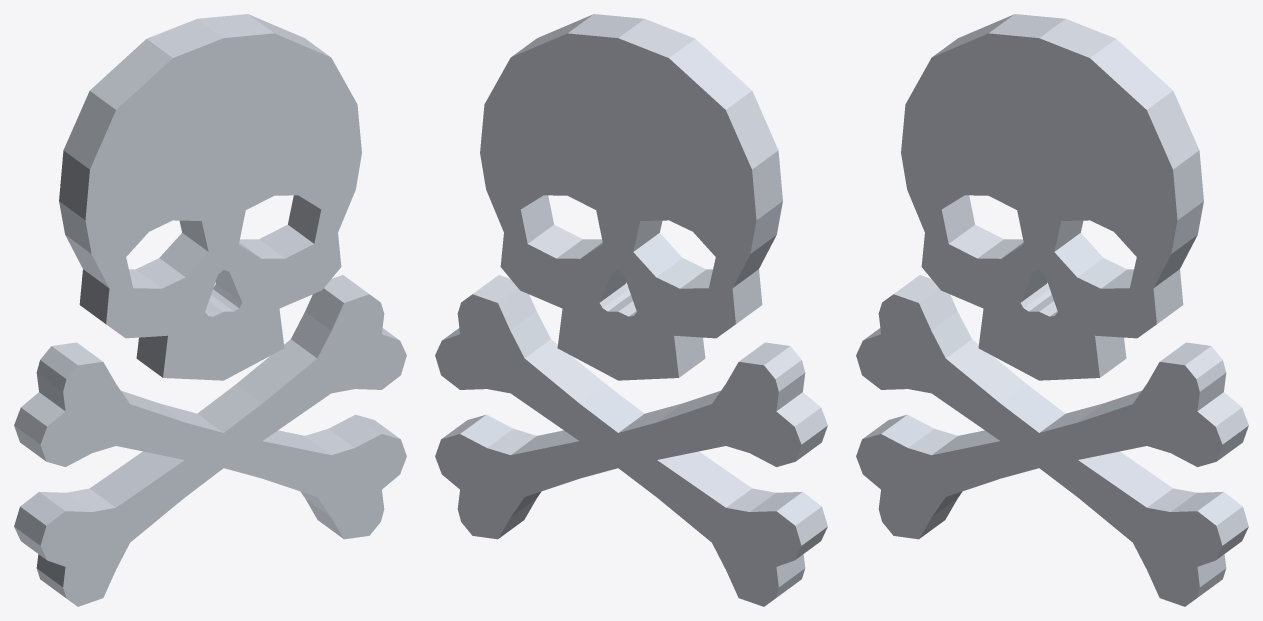
File: Skull.fbx
3 views of the same model, side by side, from view 1: azimuth 30°, elevation 25°; view 2: azimuth 150°, elevation 25°; view 3: azimuth 330°, elevation 25° (orthographic).
Visible parts, largest first — view 1: Bones; view 2: Bones; view 3: Bones.
Boxes of the visible parts, x1=… form: Bones: x1=14, y1=14, x2=406, y2=606; Bones: x1=435, y1=14, x2=827, y2=606; Bones: x1=856, y1=14, x2=1248, y2=606.
Bounding box in the file's own units: 208 × 289 × 26.04.
